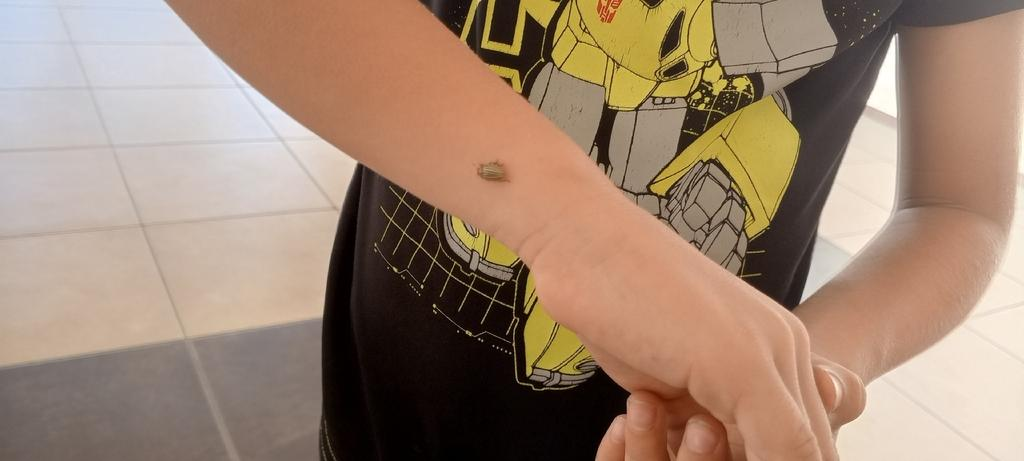potato_beetle: (466, 154, 526, 200)
